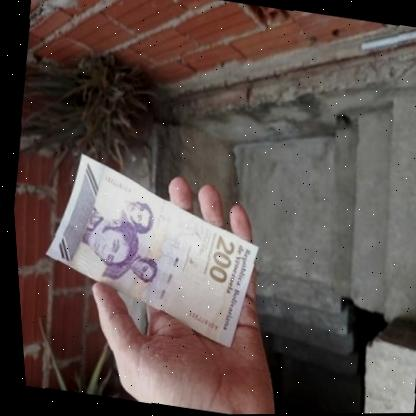vef_front: (25, 146, 270, 351)
